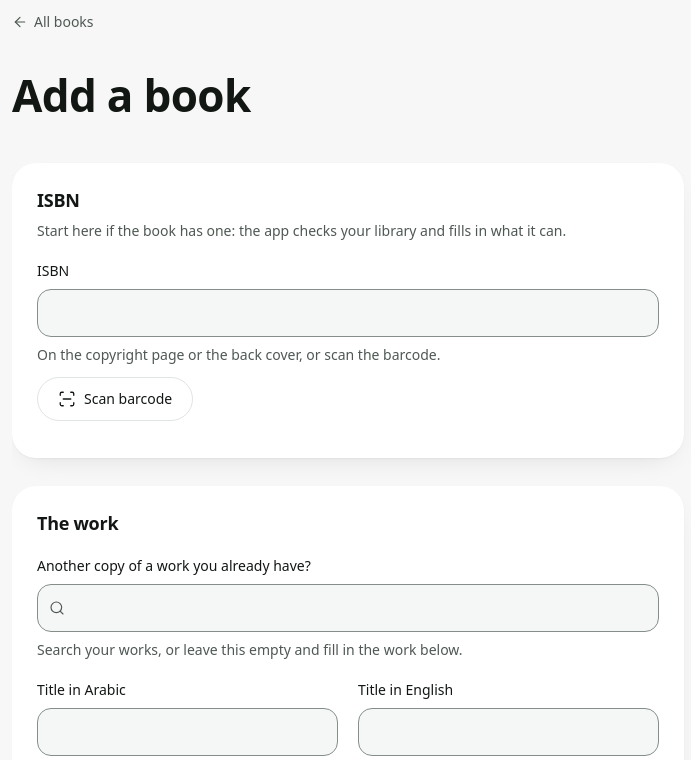
Scenario: BookFormPage › Filling in from the ISBN › fills empty fields from your books, each with a note to check it (everyFilledFieldCarriesTheCheckNote)
Type "9789933685027" into the field labelled "ISBN" at (348, 313), box [37,289,659,337]
(page scrolled)
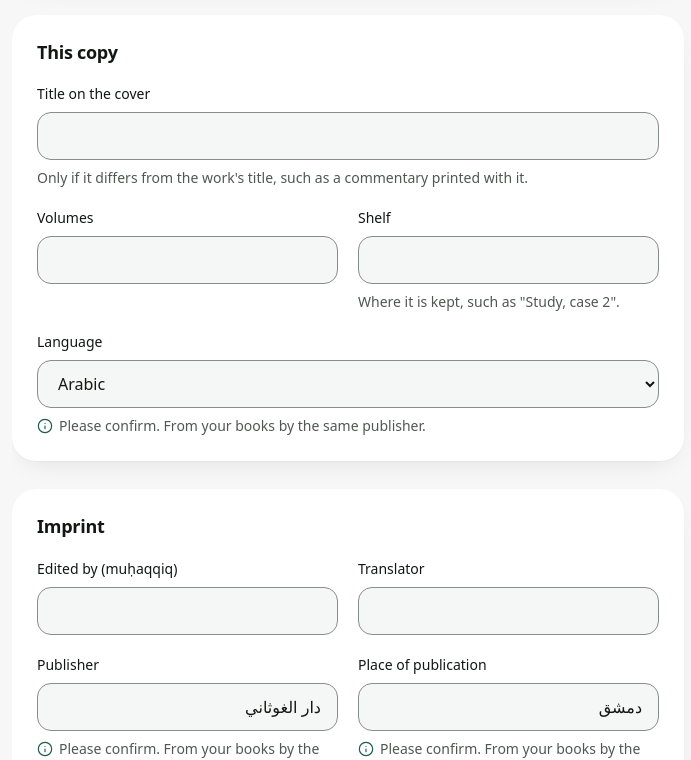
expect the field showing "دار الغوثاني" is shown: met, box [37,683,338,731]
expect the field labelled "Place of publication" holds "دمشق": met, box [358,683,659,731]
expect the dropdown labelled "Language" shows "Arabic": met, box [37,360,659,408]
